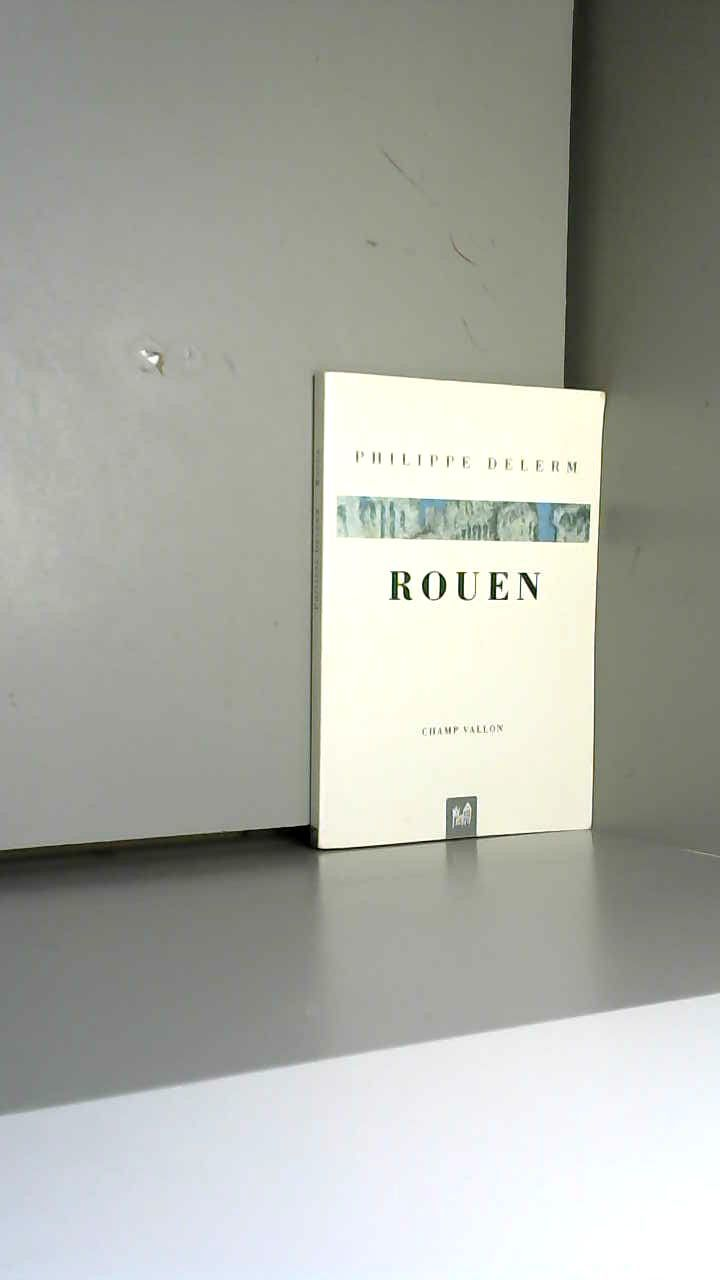book: (290, 340, 717, 925)
